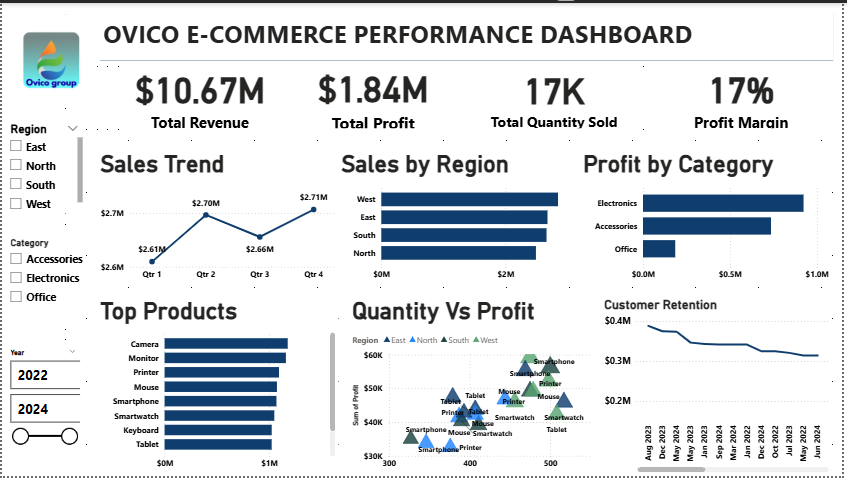

Layout of this report page (visuals, bound fields, positions):
{"tool":"powerbi","page":{"name":"Executive Overview","canvas":[1280,720],"ordinal":0},"visuals":[{"type":"card","fields":{"Values":["SalesData.Total Revenue"]},"box":[179.7,87.3,243.6,109.2],"z":0},{"type":"card","fields":{"Values":["SalesData.Total Profit"]},"box":[423.3,87.3,283.9,109.2],"z":1000},{"type":"card","fields":{"Values":["SalesData.Total Quantity Sold"]},"box":[717.3,87.3,246.9,109.2],"z":2000},{"type":"card","fields":{"Values":["SalesData.Profit Margin","select"]},"box":[986,87.3,280.5,109.2],"z":3000},{"type":"lineChart","title":"Sales Trend","fields":{"Y":["Sum(SalesData.Sales)"],"Category":["SalesData.Order Date.Variation.Date Hierarchy.Quarter","SalesData.Order Date.Variation.Date Hierarchy.Month","SalesData.Order Date.Variation.Date Hierarchy.Day"]},"box":[144,224,368,208],"z":4000},{"type":"clusteredBarChart","title":"Sales by Region","fields":{"Category":["SalesData.Region"],"Y":["Sum(SalesData.Sales)"]},"box":[512,224,368,208],"z":5000},{"type":"clusteredBarChart","title":"Profit by Category","fields":{"Category":["SalesData.Category"],"Y":["Sum(SalesData.Profit)"]},"box":[880,224,384,208],"z":6000},{"type":"clusteredBarChart","title":"Top Products","fields":{"Category":["SalesData.Product Name"],"Y":["Sum(SalesData.Sales)"]},"box":[144,448,368,272],"z":7000},{"type":"scatterChart","title":"Quantity Vs Profit","fields":{"X":["Sum(SalesData.Quantity)"],"Y":["Sum(SalesData.Profit)"],"Series":["SalesData.Region"],"Size":["SalesData.Total Revenue"],"Category":["SalesData.Product Name"]},"box":[528,448,384,272],"z":8000},{"type":"slicer","fields":{"Values":["SalesData.Region"]},"box":[0,176,128,144],"z":9000},{"type":"slicer","fields":{"Values":["SalesData.Category"]},"box":[0,352,128,144],"z":10000},{"type":"slicer","fields":{"Values":["SalesData.Year"]},"box":[0,520.7,124.3,186.5],"z":11000},{"type":"shape","box":[149.5,15.1,1117.1,72.2],"z":12000},{"type":"image","box":[0,0,149.5,174.7],"z":13000},{"type":"textbox","box":[149.5,15.1,1117.1,72.2],"z":14000},{"type":"lineChart","title":"Customer Retention","fields":{"Category":["SalesData.MonthYear"],"Y":["Sum(SalesData.Sales)"]},"box":[912,448,352,272],"z":15000}]}

Visuals, with their boxes in screenshot pixels (x1, y1, x2, y2), scaled from the page's 1280x720 canvas onto the 847x478 screenshot:
card - SalesData.Total Revenue: <region>119, 58, 280, 130</region>
card - SalesData.Total Profit: <region>280, 58, 468, 130</region>
card - SalesData.Total Quantity Sold: <region>475, 58, 638, 130</region>
card - SalesData.Profit Margin x select: <region>652, 58, 838, 130</region>
"Sales Trend" lineChart: <region>95, 149, 339, 287</region>
"Sales by Region" clusteredBarChart: <region>339, 149, 582, 287</region>
"Profit by Category" clusteredBarChart: <region>582, 149, 836, 287</region>
"Top Products" clusteredBarChart: <region>95, 297, 339, 477</region>
"Quantity Vs Profit" scatterChart: <region>349, 297, 603, 477</region>
slicer - SalesData.Region: <region>0, 117, 85, 212</region>
slicer - SalesData.Category: <region>0, 234, 85, 329</region>
slicer - SalesData.Year: <region>0, 346, 82, 470</region>
shape: <region>99, 10, 838, 58</region>
image: <region>0, 0, 99, 116</region>
textbox: <region>99, 10, 838, 58</region>
"Customer Retention" lineChart: <region>603, 297, 836, 477</region>
